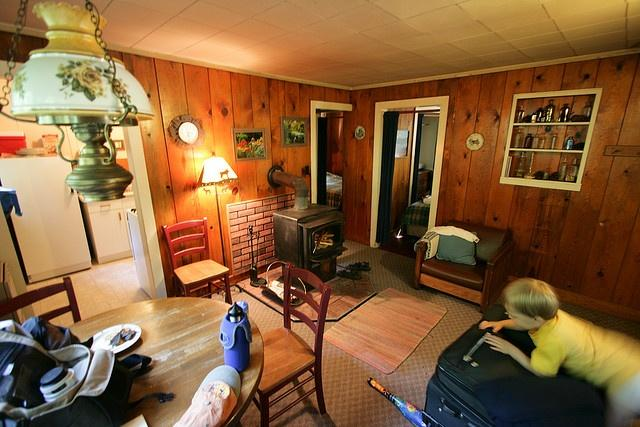Kursi: (252, 263, 332, 426), (161, 216, 231, 305)
Rak: (496, 85, 600, 189)
